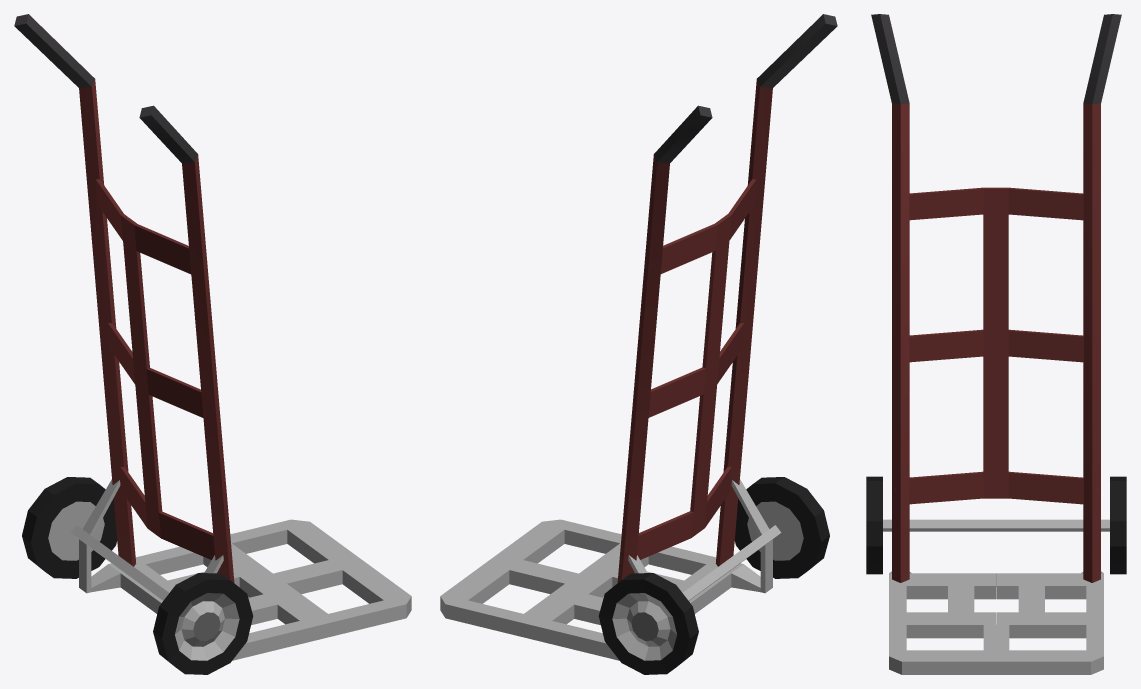
Rendered from SM_handTruck_01.gltf.
3 renders of one model, left to right at view 1: azimuth 30°, elevation 25°; view 2: azimuth 150°, elevation 25°; view 3: azimuth 270°, elevation 25°, orthographic. The views are drawn at different scales.
Visible parts, largest first — view 1: SM_handTruck_01; view 2: SM_handTruck_01; view 3: SM_handTruck_01.
Part boxes in pixels (<box>): SM_handTruck_01: <box>14,14,411,674</box>; SM_handTruck_01: <box>440,14,837,674</box>; SM_handTruck_01: <box>866,14,1126,674</box>.
Bounding box in the file's own units: 0.6841 × 1.33 × 0.5846.
Materials: 1 (1 with a texture image).
